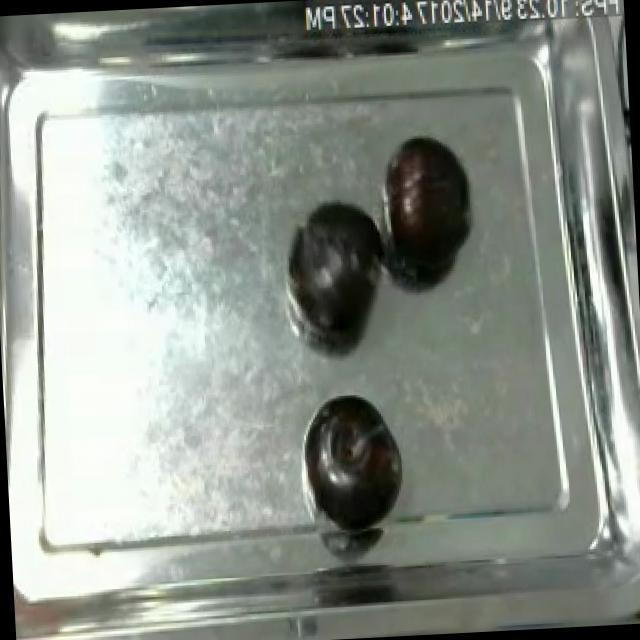Fruit: (298, 386, 411, 536), (282, 192, 393, 342), (376, 128, 478, 282)
